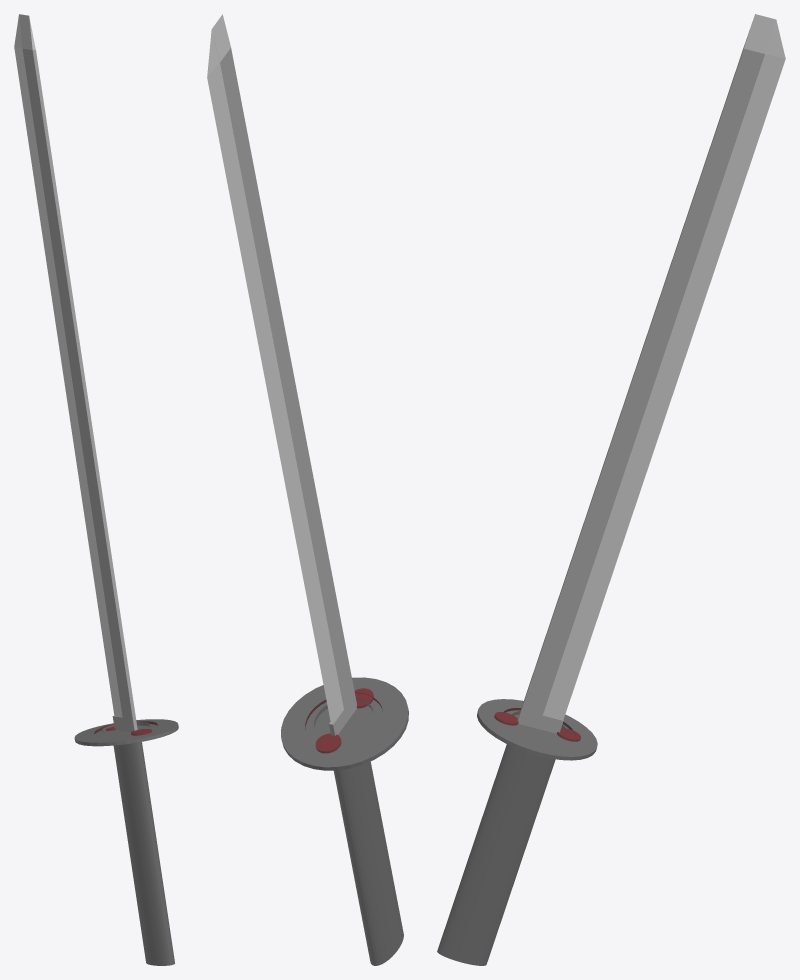
The model's file is sword.glb.
3 renders of one model, left to right at view 1: azimuth 30°, elevation 25°; view 2: azimuth 150°, elevation 25°; view 3: azimuth 270°, elevation 25°, orthographic. The views are drawn at different scales.
Visible parts, largest first — view 1: sword.001; view 2: sword.001; view 3: sword.001.
Part boxes in pixels (left/top/right/bottom): sword.001: left=14, top=14, right=178, bottom=965; sword.001: left=207, top=14, right=408, bottom=965; sword.001: left=437, top=14, right=785, bottom=965.
Size of the model in its own units: 0.8605 by 7.99 by 2.65.
